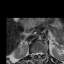CCS_normal: (38, 50, 40, 59)
LFS_normal: (42, 50, 44, 56)
LLS_normal: (40, 50, 42, 57)
RFS_normal: (33, 50, 35, 57)
RLS_normal: (35, 50, 38, 57)
